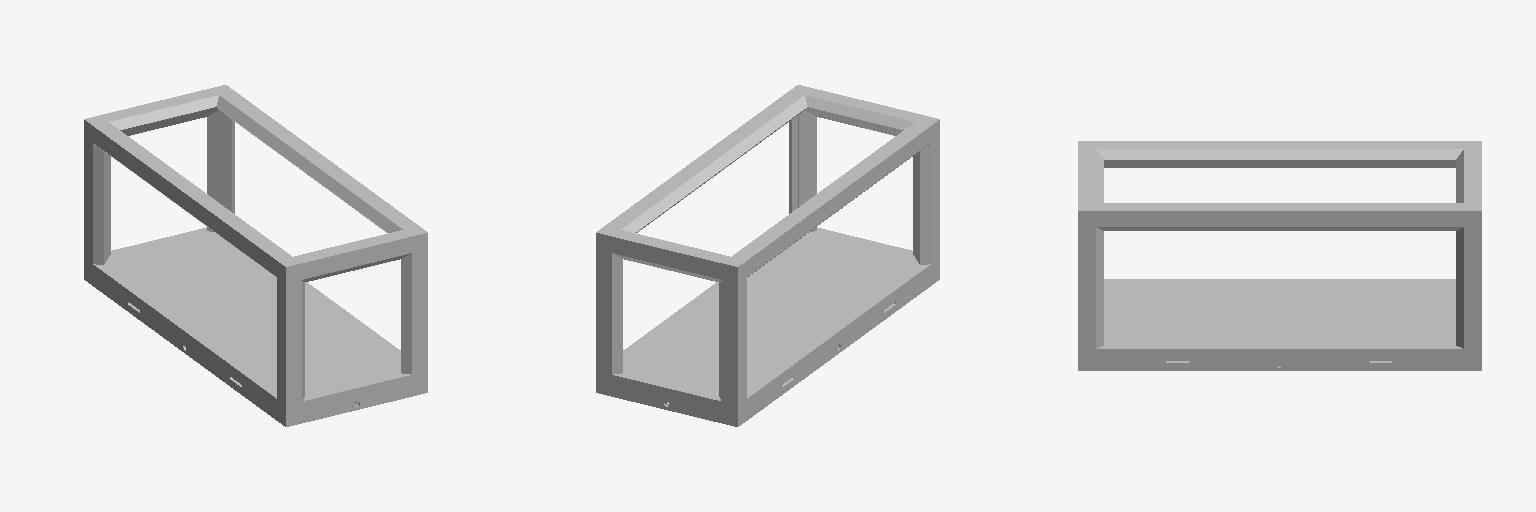
The picture shows the model from 3 angles: view 1: azimuth 30°, elevation 25°; view 2: azimuth 150°, elevation 25°; view 3: azimuth 270°, elevation 25°; orthographic projection.
Visible parts, largest first — view 1: Cube_Cube.001, PROTO.006_Cube.026, PROTO.002_Cube.026, PROTO.008_Cube.031, PROTO.005_Cube.030, PROTO.004_Cube.031, PROTO.007_Cube.031, PROTO.001_Cube.030, PROTO.003_Cube.031, Cube.023_Cube.063; view 2: Cube_Cube.001, PROTO.006_Cube.026, PROTO.002_Cube.026, PROTO.007_Cube.031, PROTO.001_Cube.030, PROTO.003_Cube.031, PROTO.008_Cube.031, PROTO.005_Cube.030, PROTO.004_Cube.031, Cube.018_Cube.058; view 3: Cube_Cube.001, PROTO.002_Cube.026, PROTO.006_Cube.026, PROTO.003_Cube.031, PROTO.004_Cube.031, PROTO.001_Cube.030, PROTO.005_Cube.030, Cube.014_Cube.054.
Part boxes in pixels (bbox=[...]): Cube_Cube.001: bbox=[84, 227, 427, 426]; PROTO.006_Cube.026: bbox=[84, 119, 291, 276]; PROTO.002_Cube.026: bbox=[216, 85, 426, 232]; PROTO.008_Cube.031: bbox=[277, 268, 304, 404]; PROTO.005_Cube.030: bbox=[286, 230, 427, 281]; PROTO.004_Cube.031: bbox=[401, 234, 427, 374]; PROTO.007_Cube.031: bbox=[84, 121, 110, 264]; PROTO.001_Cube.030: bbox=[86, 85, 224, 135]; PROTO.003_Cube.031: bbox=[207, 113, 234, 231]; Cube.023_Cube.063: bbox=[214, 110, 224, 206]; Cube_Cube.001: bbox=[596, 227, 939, 426]; PROTO.006_Cube.026: bbox=[732, 119, 939, 276]; PROTO.002_Cube.026: bbox=[597, 85, 807, 232]; PROTO.007_Cube.031: bbox=[719, 268, 746, 404]; PROTO.001_Cube.030: bbox=[596, 230, 737, 281]; PROTO.003_Cube.031: bbox=[596, 234, 622, 374]; PROTO.008_Cube.031: bbox=[913, 121, 939, 264]; PROTO.005_Cube.030: bbox=[799, 85, 937, 135]; PROTO.004_Cube.031: bbox=[789, 113, 816, 231]; Cube.018_Cube.058: bbox=[799, 110, 809, 206]; Cube_Cube.001: bbox=[1078, 279, 1481, 370]; PROTO.002_Cube.026: bbox=[1078, 203, 1481, 230]; PROTO.006_Cube.026: bbox=[1078, 141, 1481, 167]; PROTO.003_Cube.031: bbox=[1456, 211, 1481, 348]; PROTO.004_Cube.031: bbox=[1078, 211, 1103, 348]; PROTO.001_Cube.030: bbox=[1456, 142, 1481, 209]; PROTO.005_Cube.030: bbox=[1078, 142, 1103, 209]; Cube.014_Cube.054: bbox=[1104, 162, 1455, 165].
Bounding box in the file's own units: 0.203 × 0.2185 × 0.5.